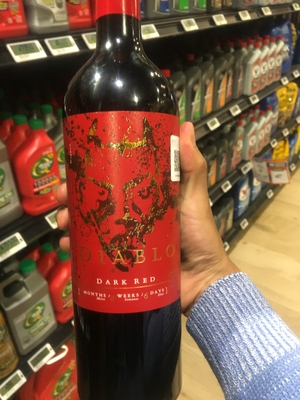diablo dark red: (63, 20, 206, 400)
